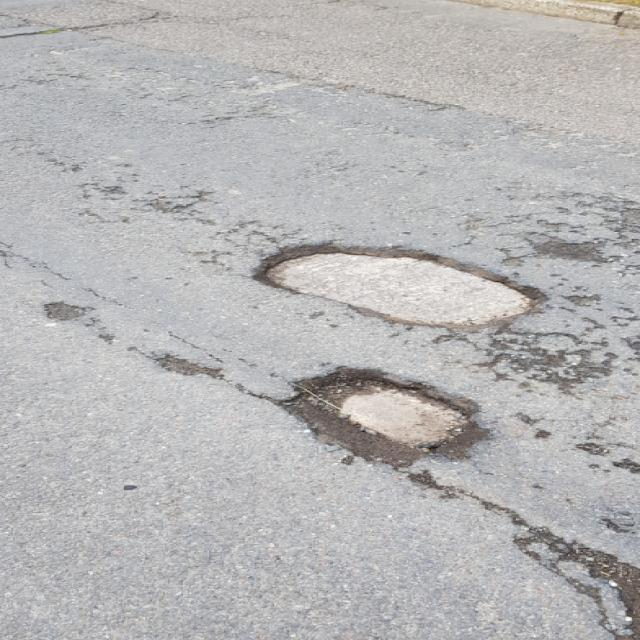pothole: (242, 239, 556, 330), (274, 360, 496, 467)
